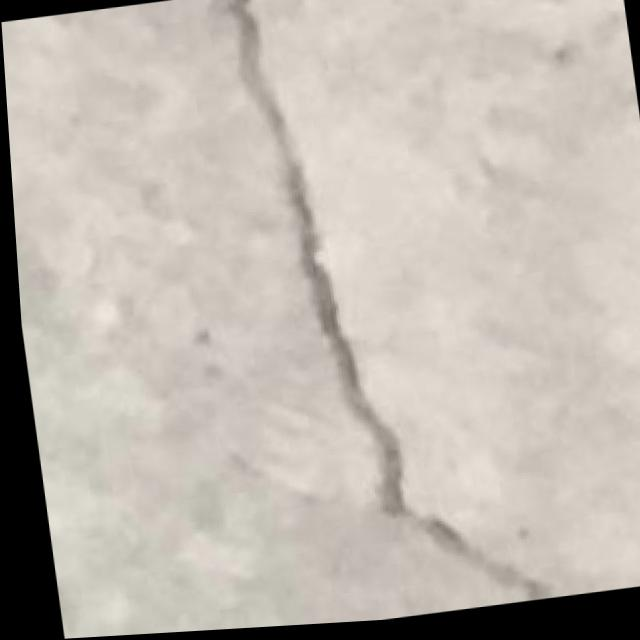Crack: (205, 0, 547, 630)
